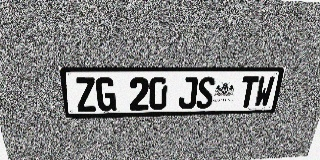0: (149, 77, 168, 110)
2: (130, 77, 149, 110)
G: (95, 77, 116, 111)
J: (178, 77, 198, 109)
S: (196, 77, 216, 109)
T: (238, 76, 259, 108)
W: (254, 76, 275, 107)
Z: (74, 77, 97, 112)
